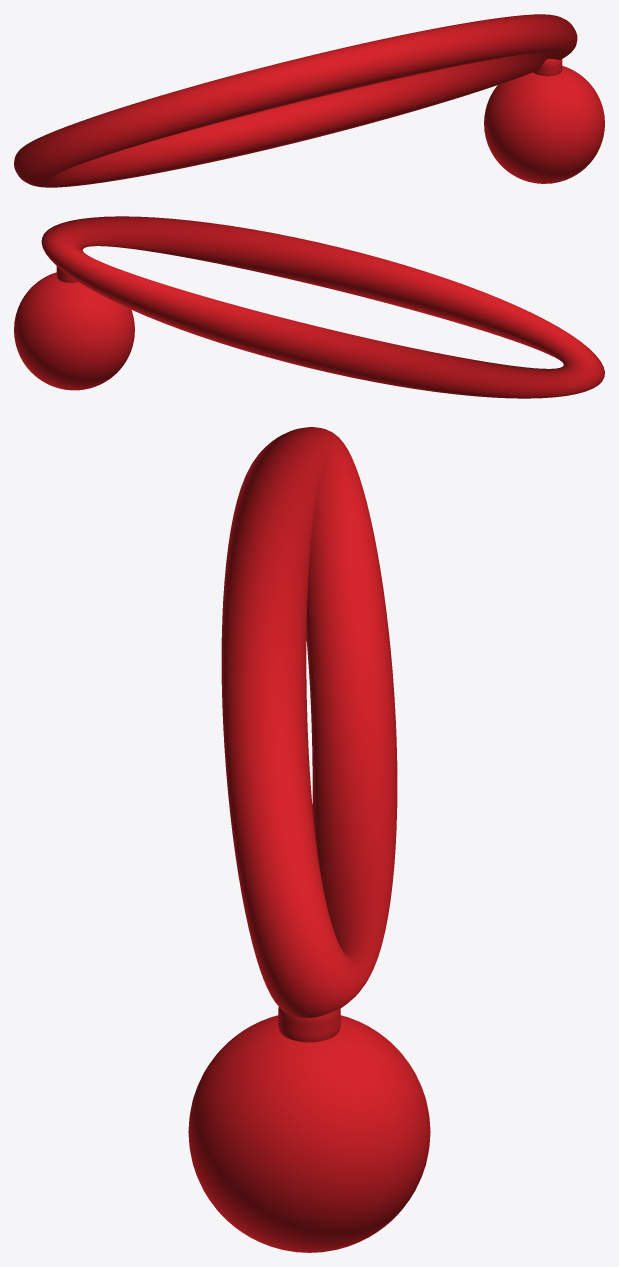
The model's file is zcollar-allred-tag-3d.glb.
3 views of the same model, one above another, from view 1: azimuth 30°, elevation 25°; view 2: azimuth 150°, elevation 25°; view 3: azimuth 270°, elevation 25° (orthographic). The views are drawn at different scales.
Parts seen in each view (by area): view 1: mesh_id38, mesh_id64, mesh_id72; view 2: mesh_id38, mesh_id64; view 3: mesh_id38, mesh_id64, mesh_id72.
Part boxes in pixels (box(x1,y1,x2,y2)): mesh_id38: box(14, 14, 577, 187); mesh_id64: box(484, 66, 604, 183); mesh_id72: box(533, 59, 562, 76); mesh_id38: box(41, 216, 604, 398); mesh_id64: box(14, 272, 134, 390); mesh_id38: box(221, 427, 397, 1017); mesh_id64: box(188, 1015, 430, 1252); mesh_id72: box(278, 1007, 340, 1042).
Bounding box in the file's own units: 0.3325 × 0.1031 × 0.06.
3 materials, 3 textured.
